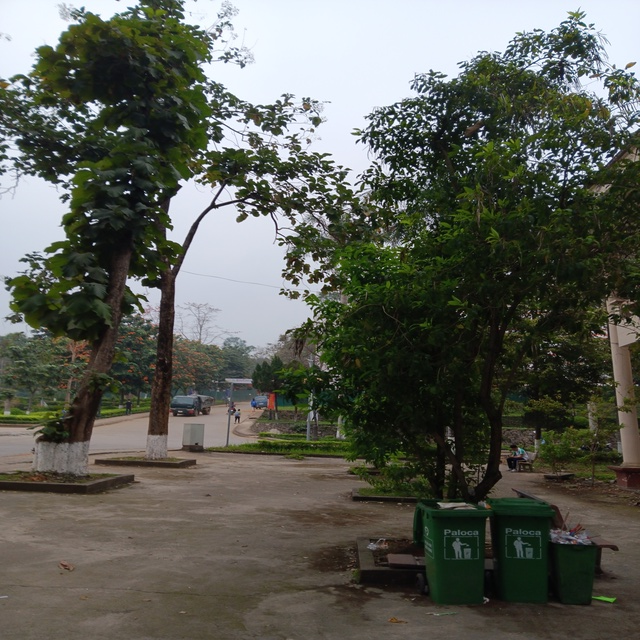thungrac: (411, 499, 487, 606), (484, 494, 554, 604), (552, 528, 602, 609)
